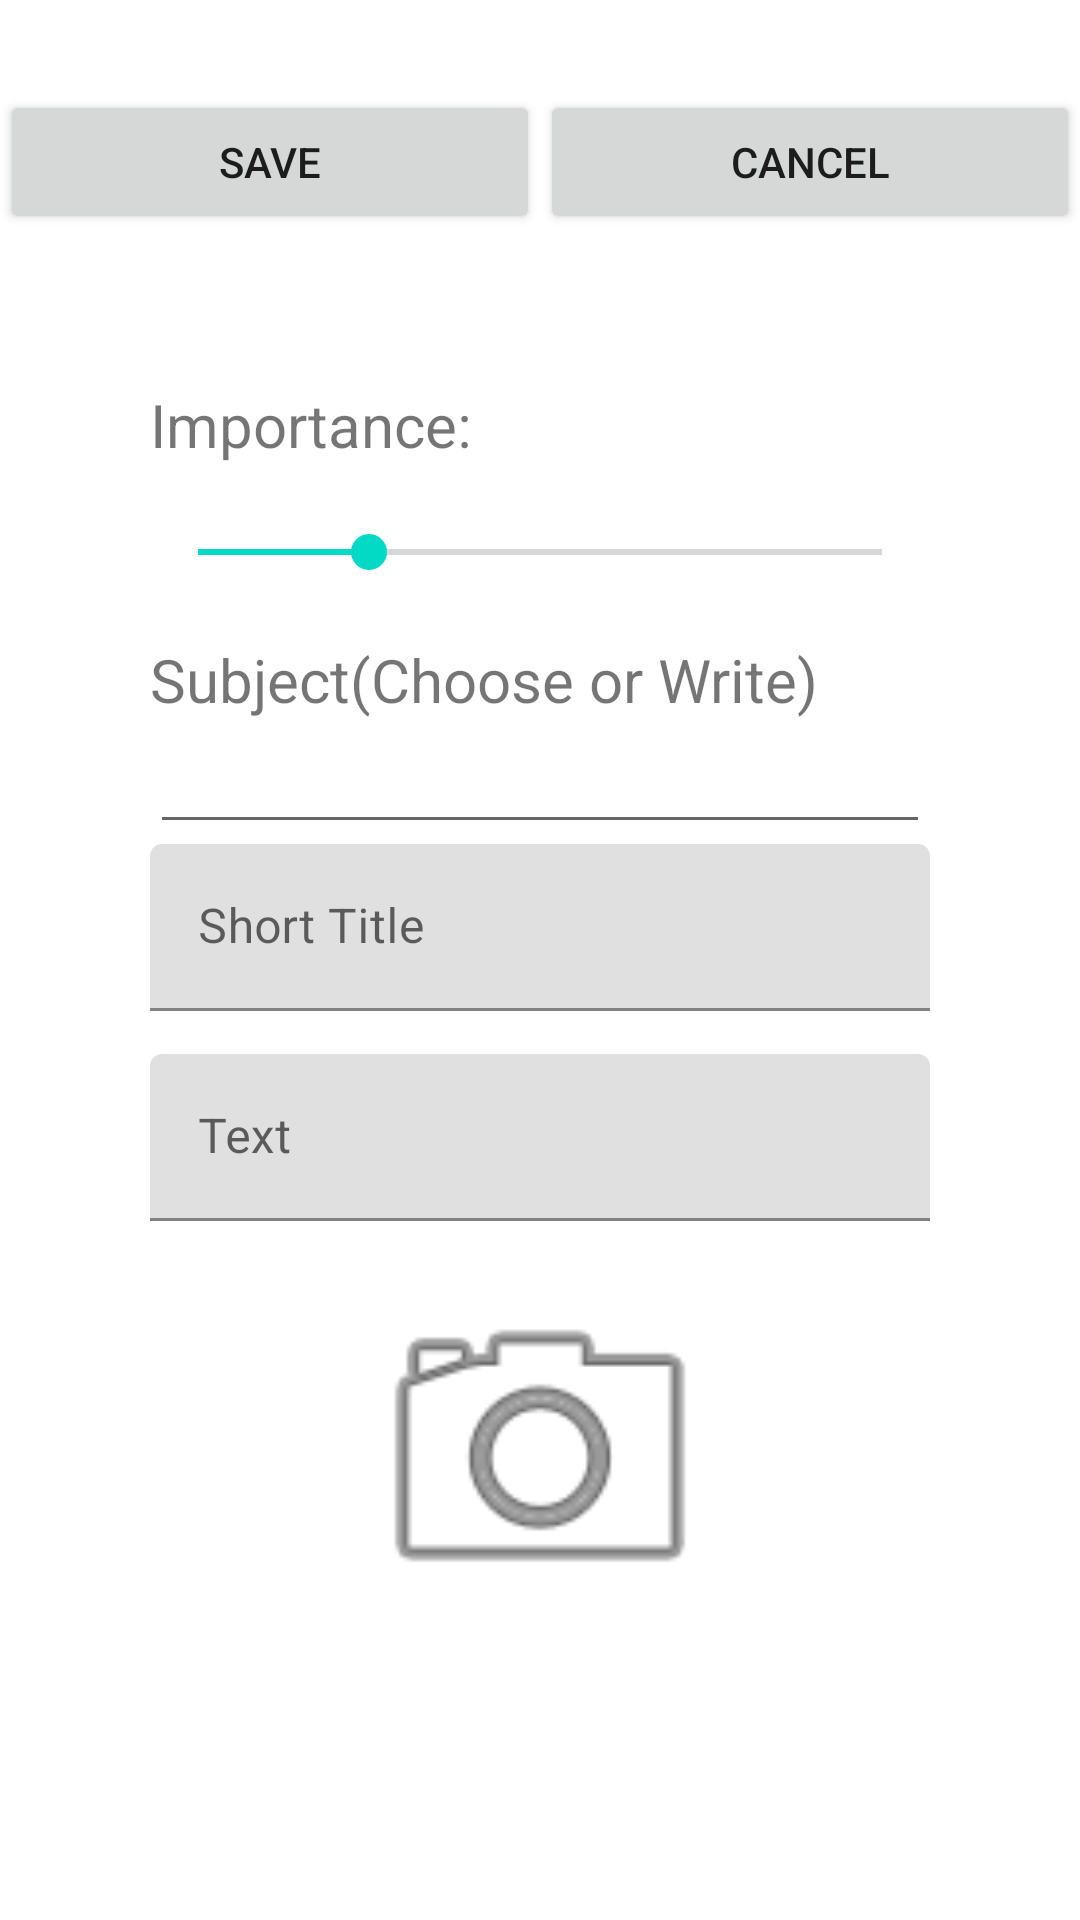

Screen size 1080 × 1920. Icon name, then its center in pixels as point (x, y):
camera: point (540, 1445)
